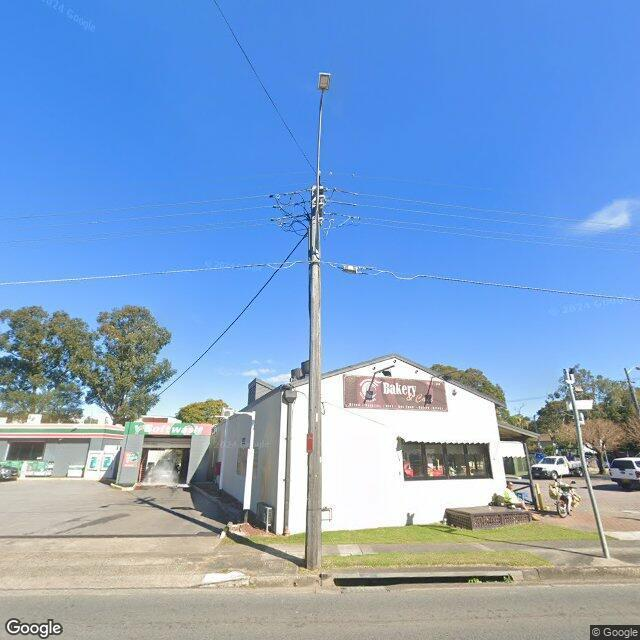steel-pole: (563, 368, 610, 559)
streetlight: (313, 72, 332, 254)
timber-pole: (306, 184, 322, 567)
